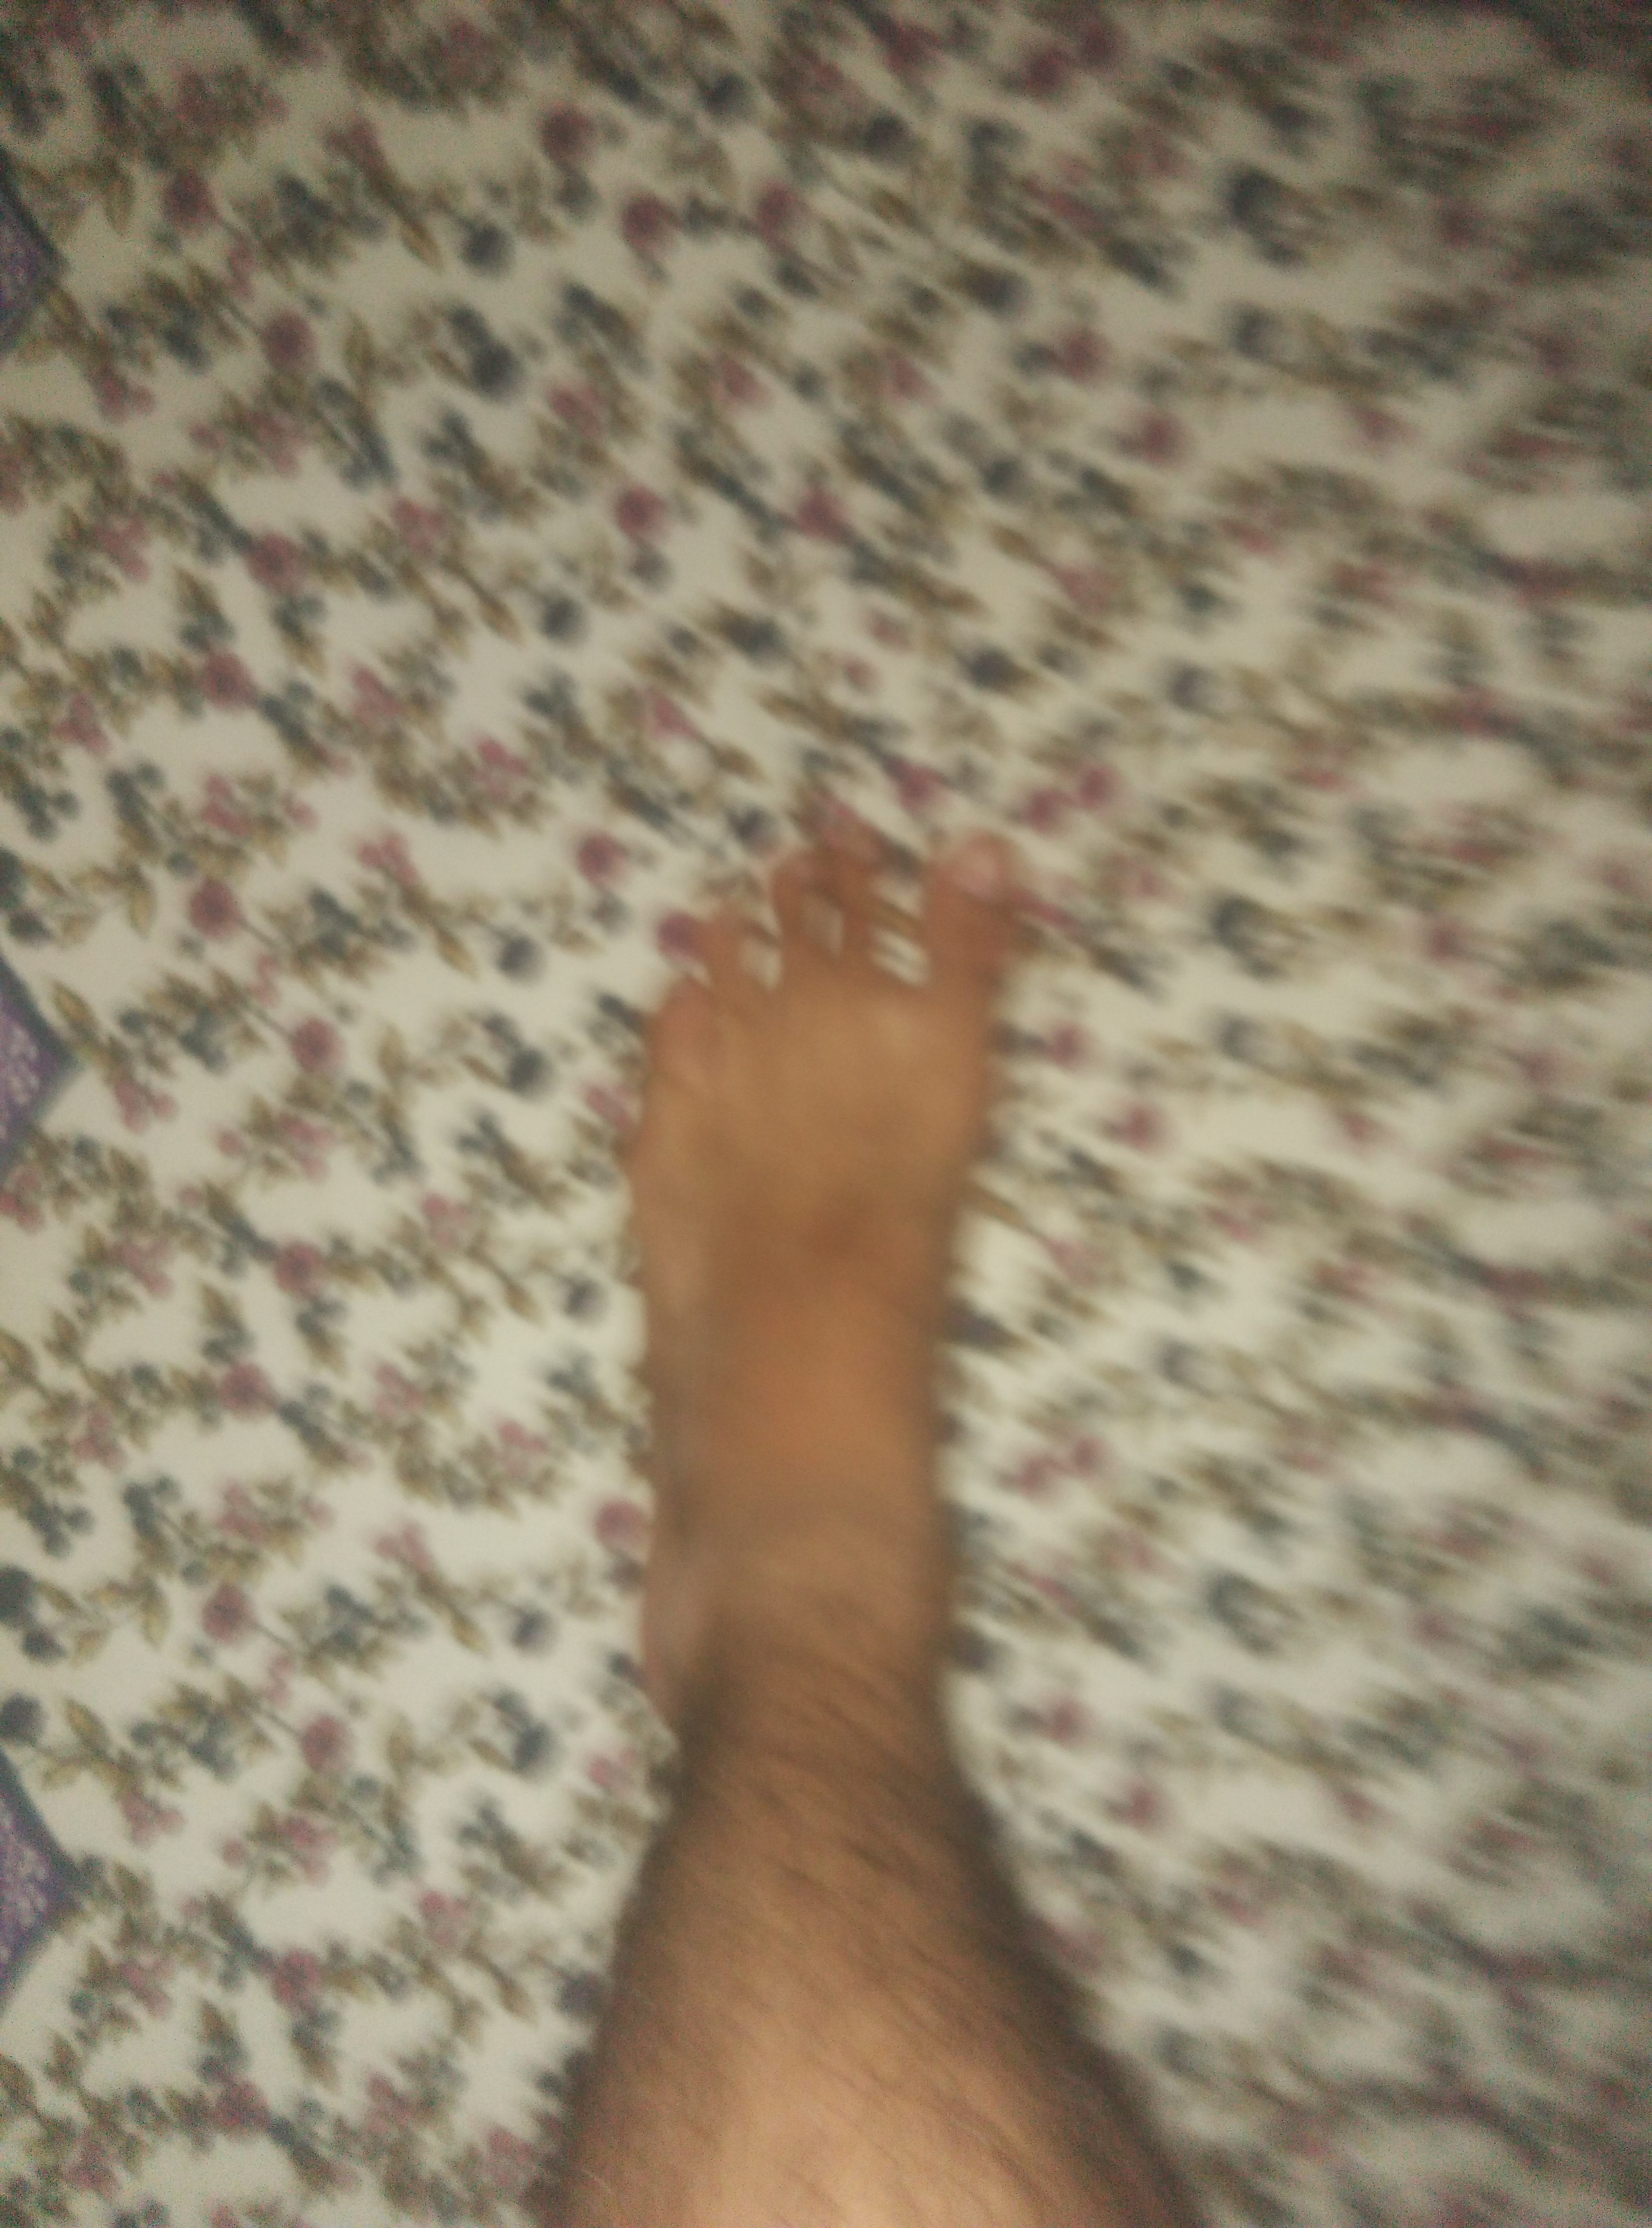feet: (554, 786, 1048, 1739)
